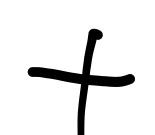plus: (27, 30, 133, 135)
